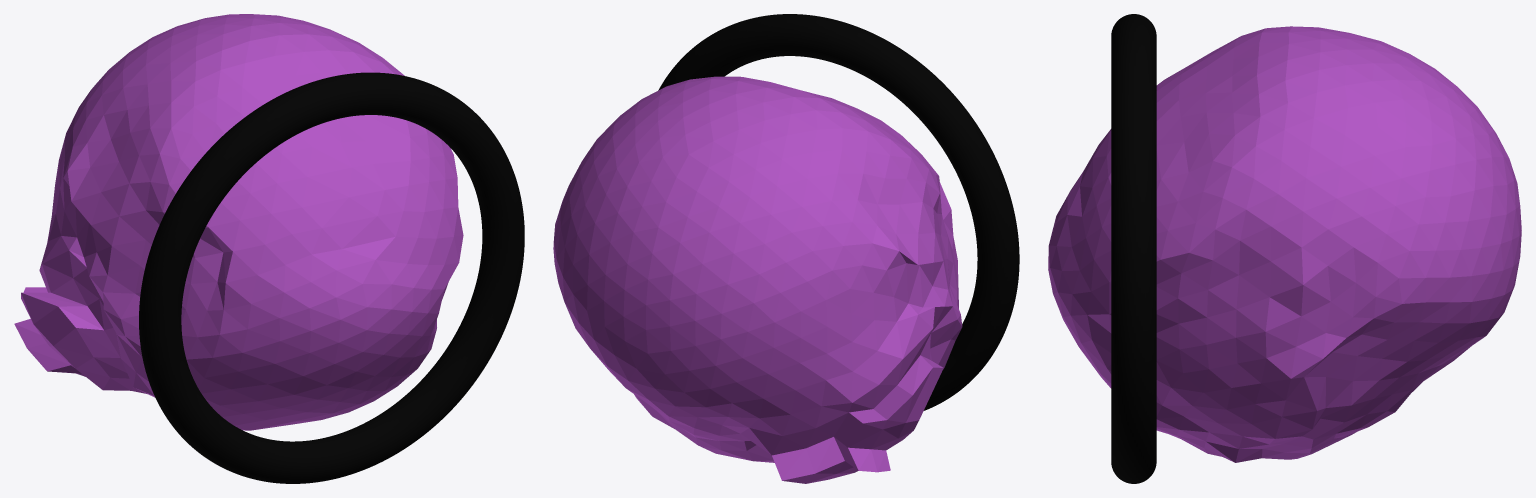
File: G01_DEFORM_GROW.glb
3 renders of one model, left to right at view 1: azimuth 30°, elevation 25°; view 2: azimuth 150°, elevation 25°; view 3: azimuth 270°, elevation 25°, orthographic. The views are drawn at different scales.
Visible parts, largest first — view 1: G01_DEFORM_GROW, Ring_CAD; view 2: G01_DEFORM_GROW, Ring_CAD; view 3: G01_DEFORM_GROW, Ring_CAD.
Boxes of the visible parts, <box> form: G01_DEFORM_GROW: <box>14,14,463,430</box>; Ring_CAD: <box>139,72,524,483</box>; G01_DEFORM_GROW: <box>553,76,962,483</box>; Ring_CAD: <box>658,14,1019,410</box>; G01_DEFORM_GROW: <box>1048,26,1521,462</box>; Ring_CAD: <box>1111,14,1156,483</box>.
Size of the model in its own units: 0.0127 by 0.0124 by 0.0125.
